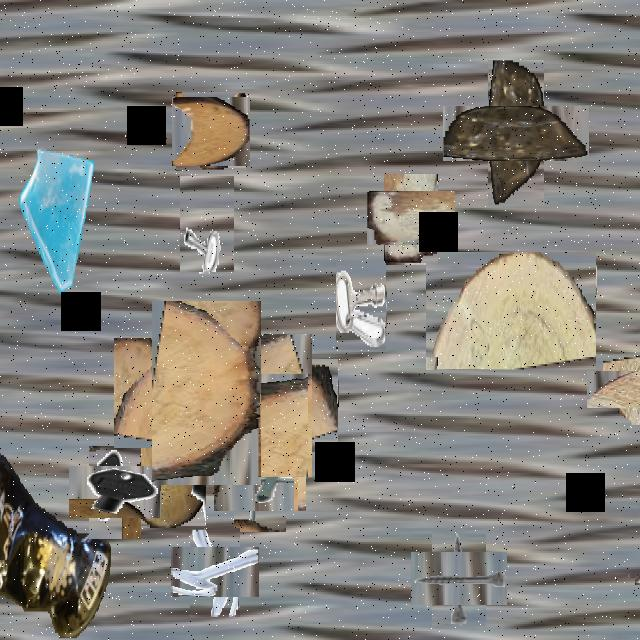glass: (17, 137, 107, 297)
metal: (422, 540, 496, 616), (224, 449, 296, 522), (79, 456, 151, 529), (180, 176, 234, 272), (180, 538, 250, 607), (336, 262, 386, 350)
plastic: (0, 439, 110, 638), (466, 83, 566, 184)
wood: (133, 319, 280, 466), (426, 252, 596, 370), (207, 346, 325, 465), (122, 444, 206, 526), (174, 94, 248, 168), (375, 183, 447, 254), (594, 362, 640, 416), (631, 570, 640, 581)
